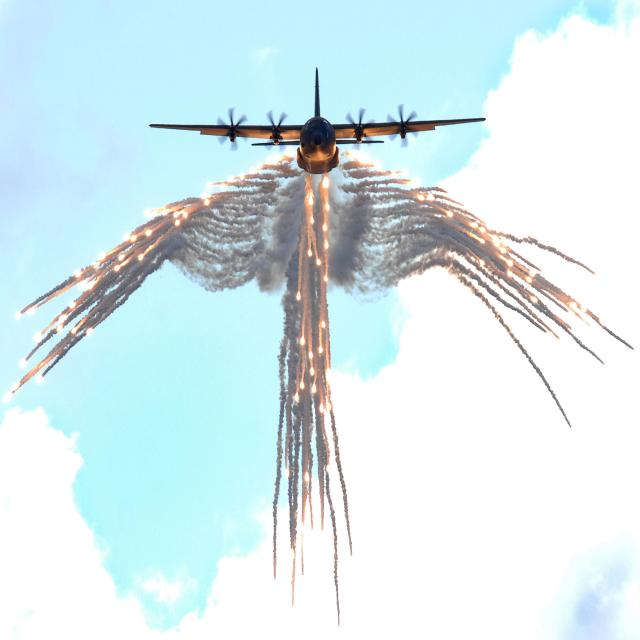MIL_Plane: (144, 66, 484, 174)
